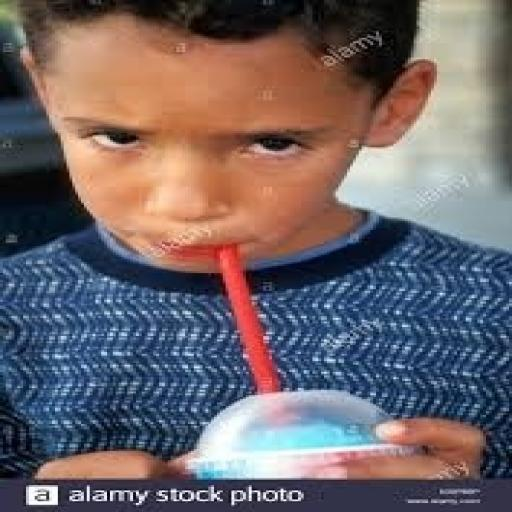drinking: (180, 388, 426, 478)
